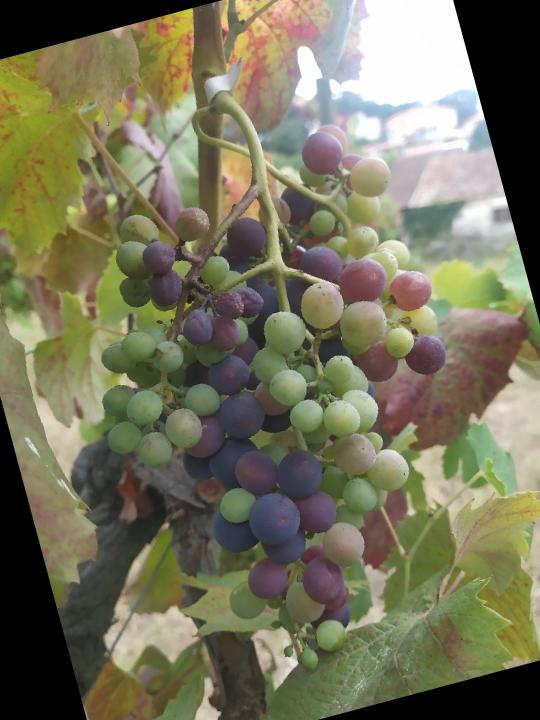grape: (36, 103, 523, 711)
